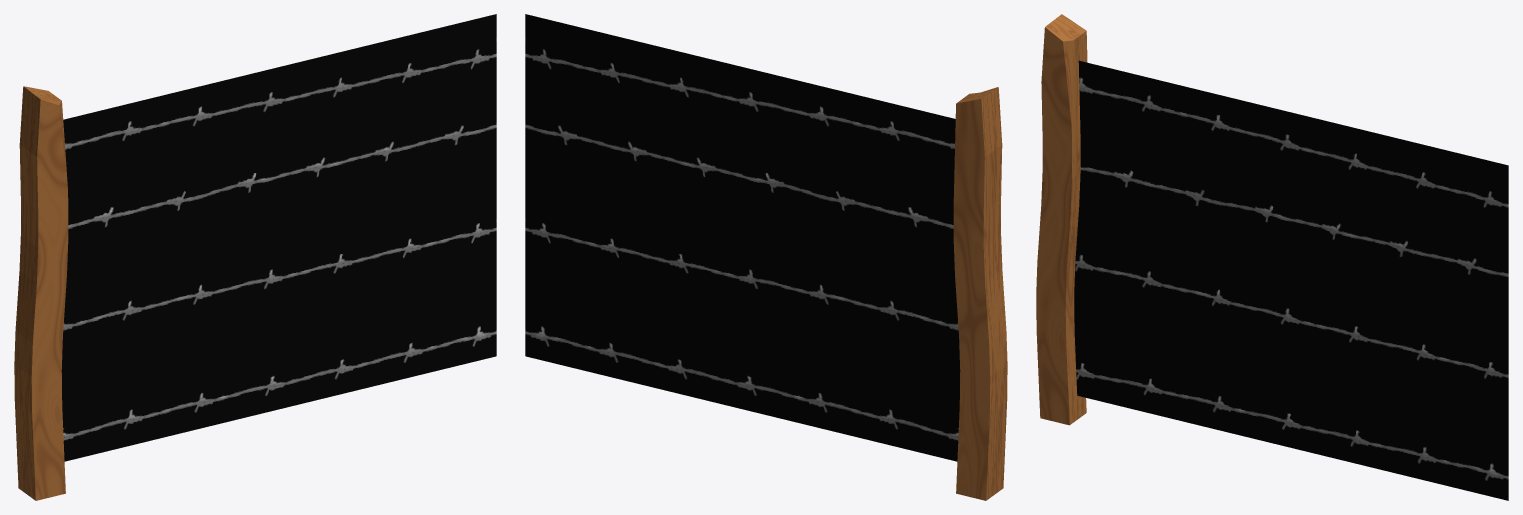
The model's file is model_cerca_01.fbx.
3 renders of one model, left to right at view 1: azimuth 30°, elevation 25°; view 2: azimuth 150°, elevation 25°; view 3: azimuth 330°, elevation 25°, orthographic. The views are drawn at different scales.
Visible parts, largest first — view 1: cerca de arrame farpado; view 2: cerca de arrame farpado; view 3: cerca de arrame farpado.
Boxes of the visible parts, box(x1,y1,x2,y2) form: cerca de arrame farpado: box(14, 14, 496, 500); cerca de arrame farpado: box(525, 14, 1007, 500); cerca de arrame farpado: box(1036, 14, 1508, 500).
Bounding box in the file's own units: 2.11 × 1.71 × 0.1342.
2 materials, 2 textured.
